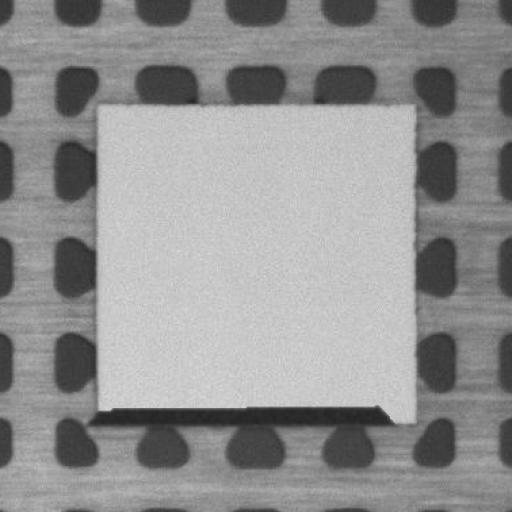DIE_BROKEN: (92, 400, 398, 424)
